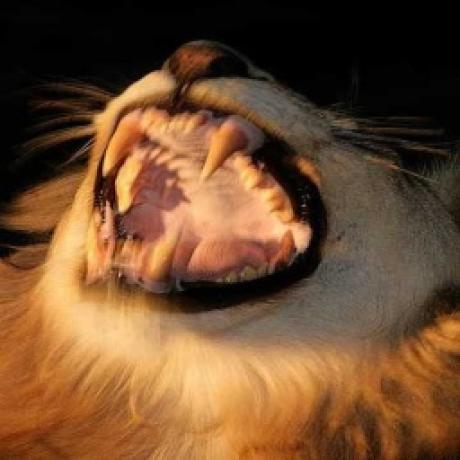Lion: (0, 32, 460, 460)
